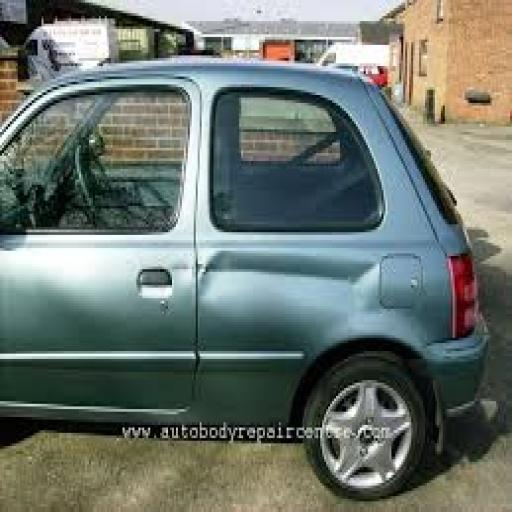dent: (187, 105, 427, 439)
